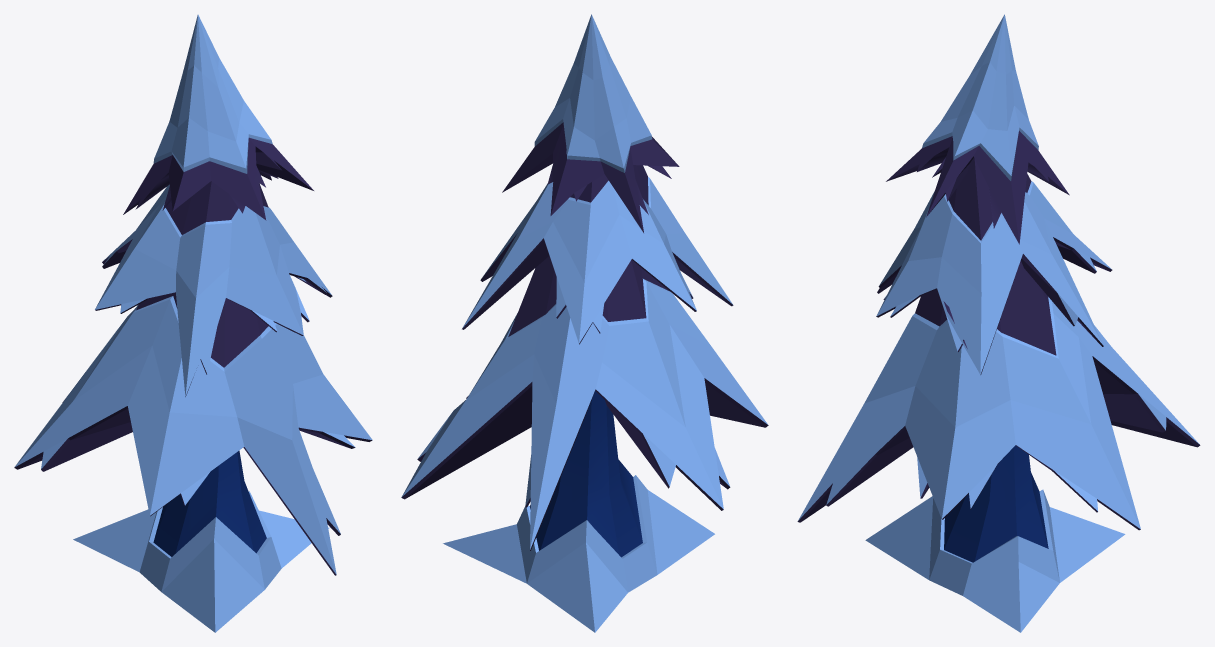
Rendered from Tree_1.fbx.
The picture shows the model from 3 angles, left to right: view 1: azimuth 30°, elevation 25°; view 2: azimuth 150°, elevation 25°; view 3: azimuth 270°, elevation 25°; orthographic projection.
Parts seen in each view (by area): view 1: Tree_1; view 2: Tree_1; view 3: Tree_1.
Boxes of the visible parts, x1,y1,x2,y2 form: Tree_1: (14, 14, 372, 632); Tree_1: (401, 14, 768, 632); Tree_1: (797, 14, 1200, 632).
Bounding box in the file's own units: 27.93 × 49.25 × 32.58.
